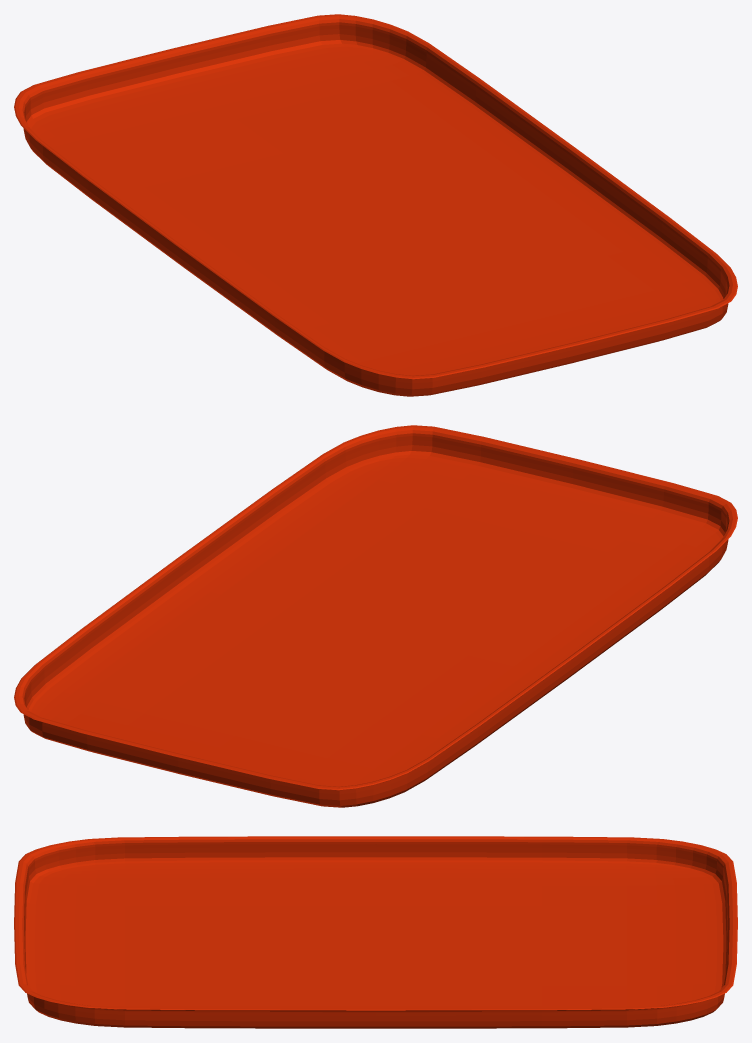
File: tray.fbx
3 views of the same model, one above another, from view 1: azimuth 30°, elevation 25°; view 2: azimuth 150°, elevation 25°; view 3: azimuth 270°, elevation 25° (orthographic). The views are drawn at different scales.
Parts seen in each view (by area): view 1: Cube; view 2: Cube; view 3: Cube.
Boxes of the visible parts, x1,y1,x2,y2 form: Cube: [14, 14, 737, 396]; Cube: [14, 425, 737, 807]; Cube: [14, 836, 737, 1028].
Bounding box in the file's own units: 205 × 13.64 × 360.
